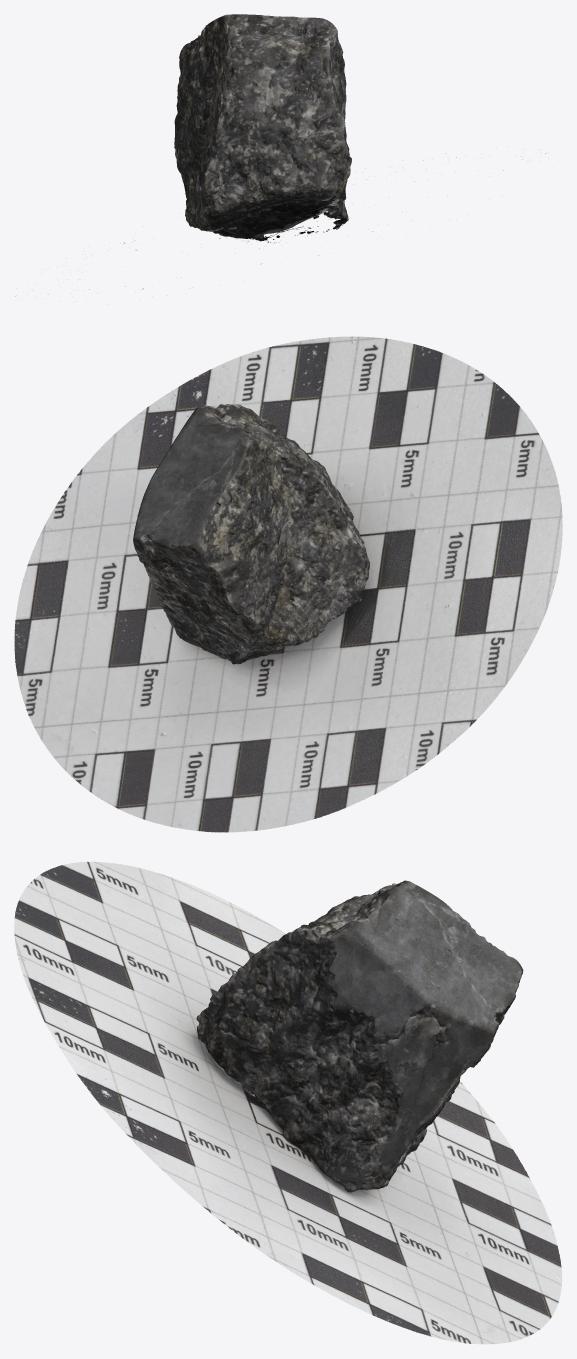
File: sample-04.glb
The picture shows the model from 3 angles, top to bottom: view 1: azimuth 30°, elevation 25°; view 2: azimuth 150°, elevation 25°; view 3: azimuth 270°, elevation 25°; orthographic projection. The views are drawn at different scales.
Size of the model in its own units: 0.0892 by 0.0579 by 0.0721.
1 material, 1 textured.
